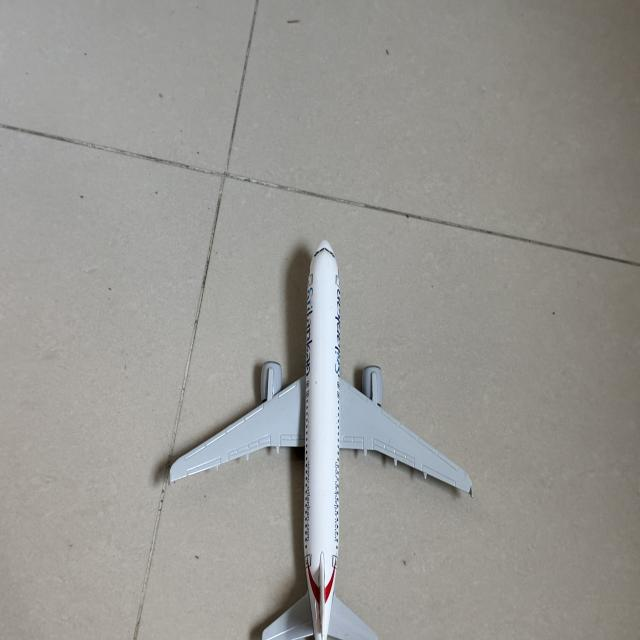air-plane: (170, 241, 472, 640)
